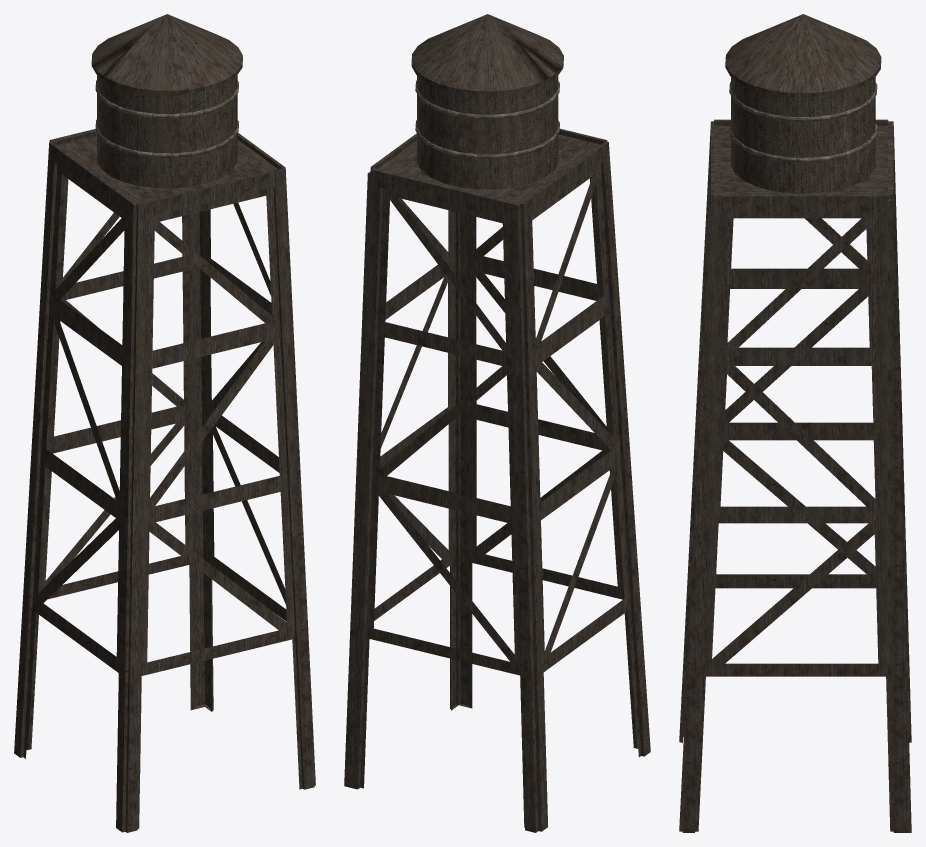
Rendered from Tower.fbx.
The picture shows the model from 3 angles, left to right: view 1: azimuth 30°, elevation 25°; view 2: azimuth 150°, elevation 25°; view 3: azimuth 270°, elevation 25°; orthographic projection. The views are drawn at different scales.
Parts seen in each view (by area): view 1: Model; view 2: Model; view 3: Model.
Boxes of the visible parts, x1,y1,x2,y2 form: Model: (14, 14, 315, 832); Model: (344, 14, 650, 832); Model: (679, 14, 911, 832).
Size of the model in its own units: 25.72 by 95.29 by 25.91.
